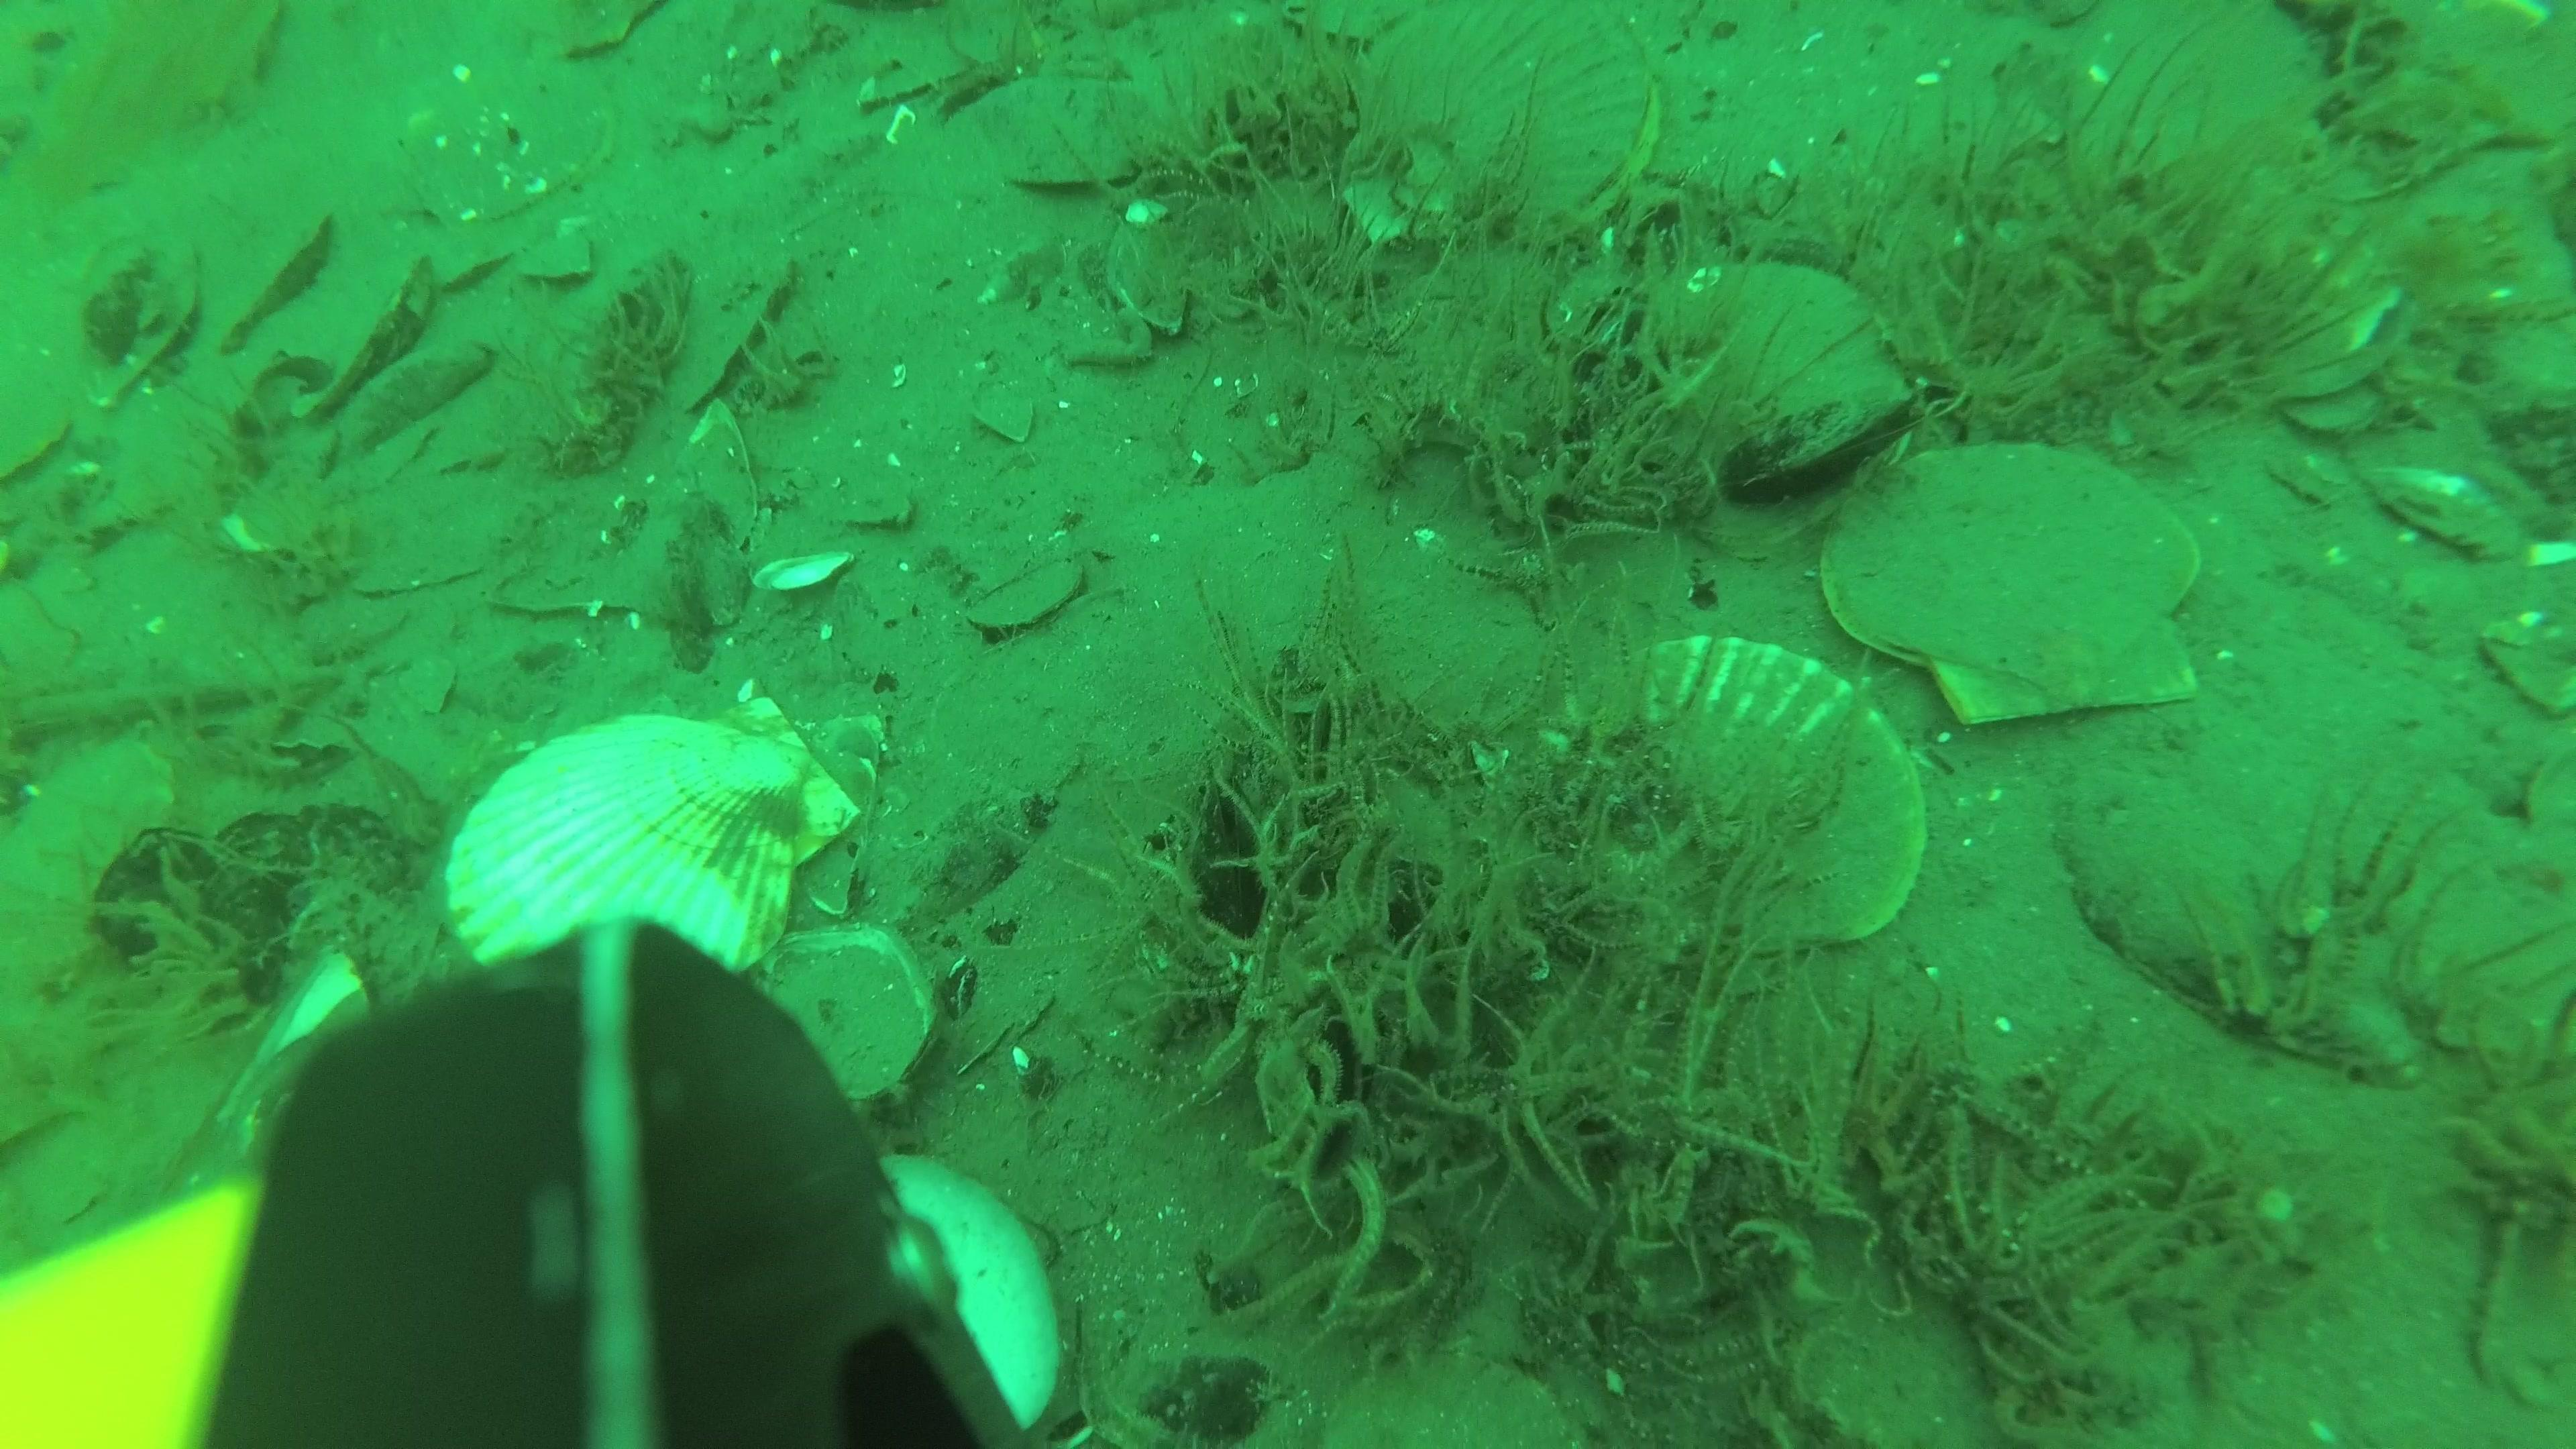scallop: (439, 686, 863, 1008), (1815, 448, 2219, 729), (1560, 642, 1928, 948), (1330, 4, 1663, 265), (1626, 258, 1902, 495), (2068, 2, 2325, 202)
